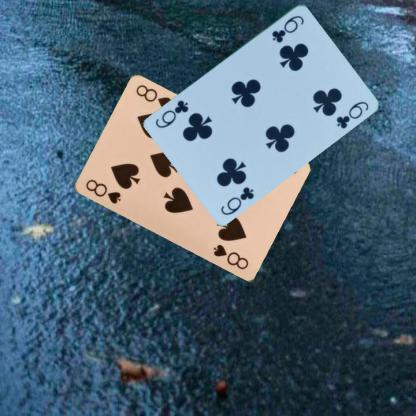6c: (268, 12, 306, 44), (218, 184, 255, 216)
8s: (83, 177, 122, 205)
